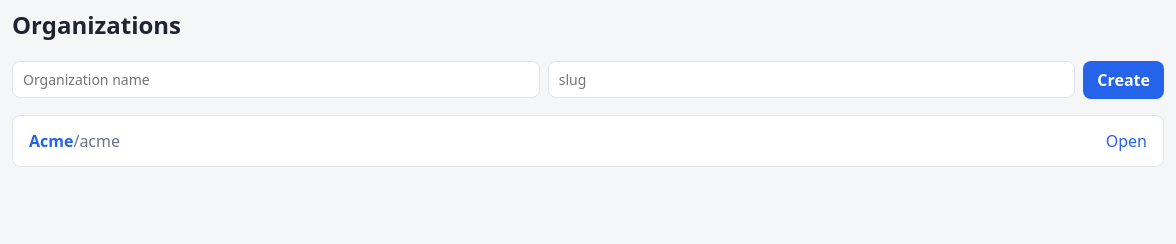
Test: OrganizationsPage › creates an organization and appends it to the list without a full reload
The image size is (1176, 244).
expect the text "Acme" is shown: met, box [29,130,73,152]
Type "New Org" into the field with placeholder "Organization name".
click(276, 80); type("New Org")  # box [12,61,540,98]
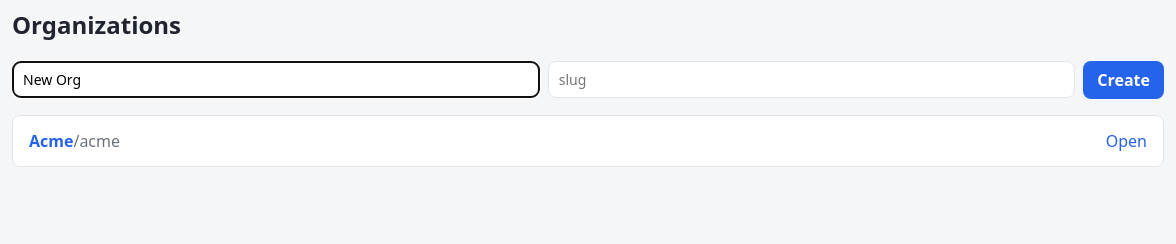
Type "new-org" into the field with placeholder "slug".
click(812, 80); type("new-org")  # box [548,61,1075,98]
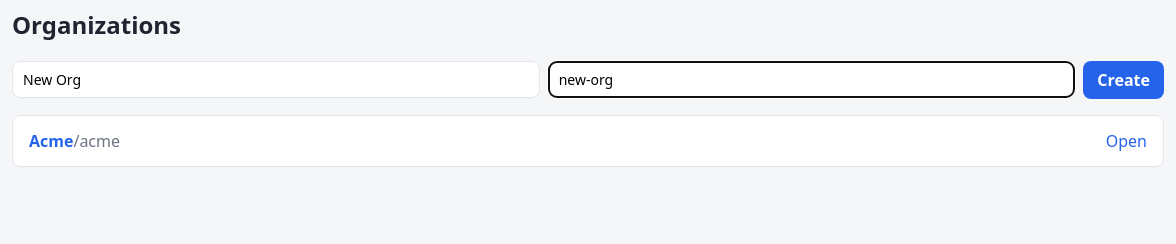
Click the button "Create".
click(1124, 80)  # box [1083,61,1164,99]
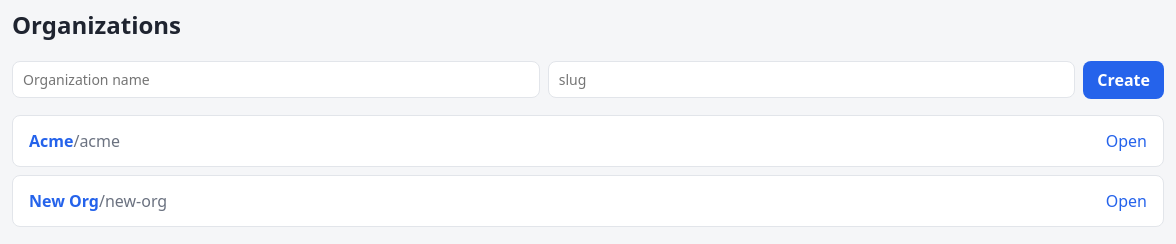
expect the text "New Org" is shown: met, box [29,190,99,212]
expect the field with placeholder "Organization name" is empty: met, box [12,61,540,98]
expect the field with placeholder "slug" is empty: met, box [548,61,1075,98]
